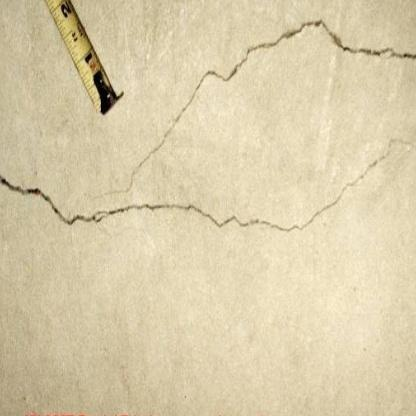Cracks: (0, 158, 382, 237), (174, 17, 416, 126), (134, 129, 174, 173)
